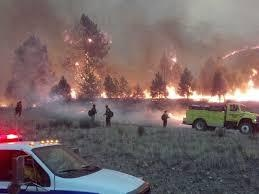fire: (141, 73, 258, 104)
